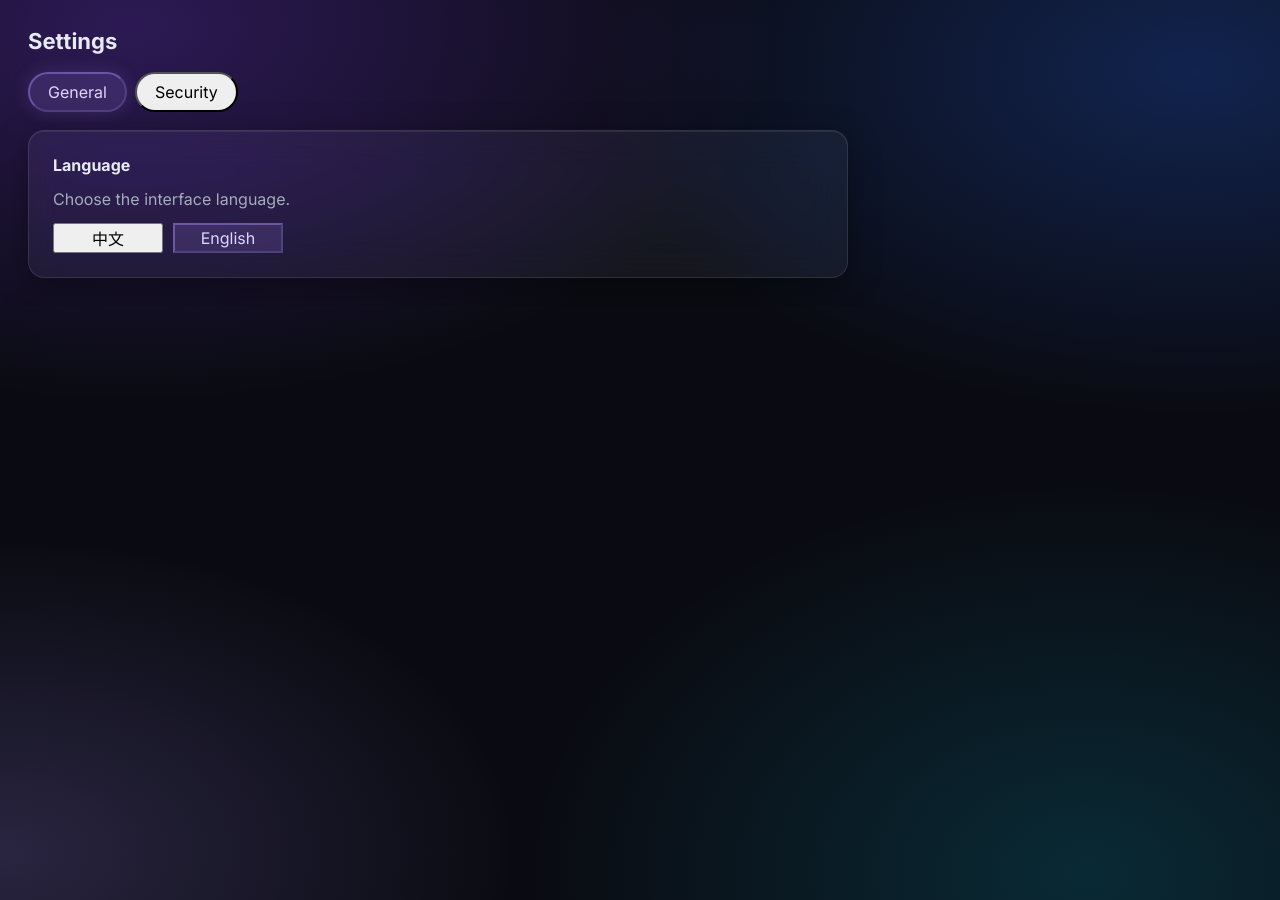
Scenario: SettingsView › 点击中文立即切换界面语言并持久化
Click the button "中文": point(108, 238) 53,223 -> 163,253
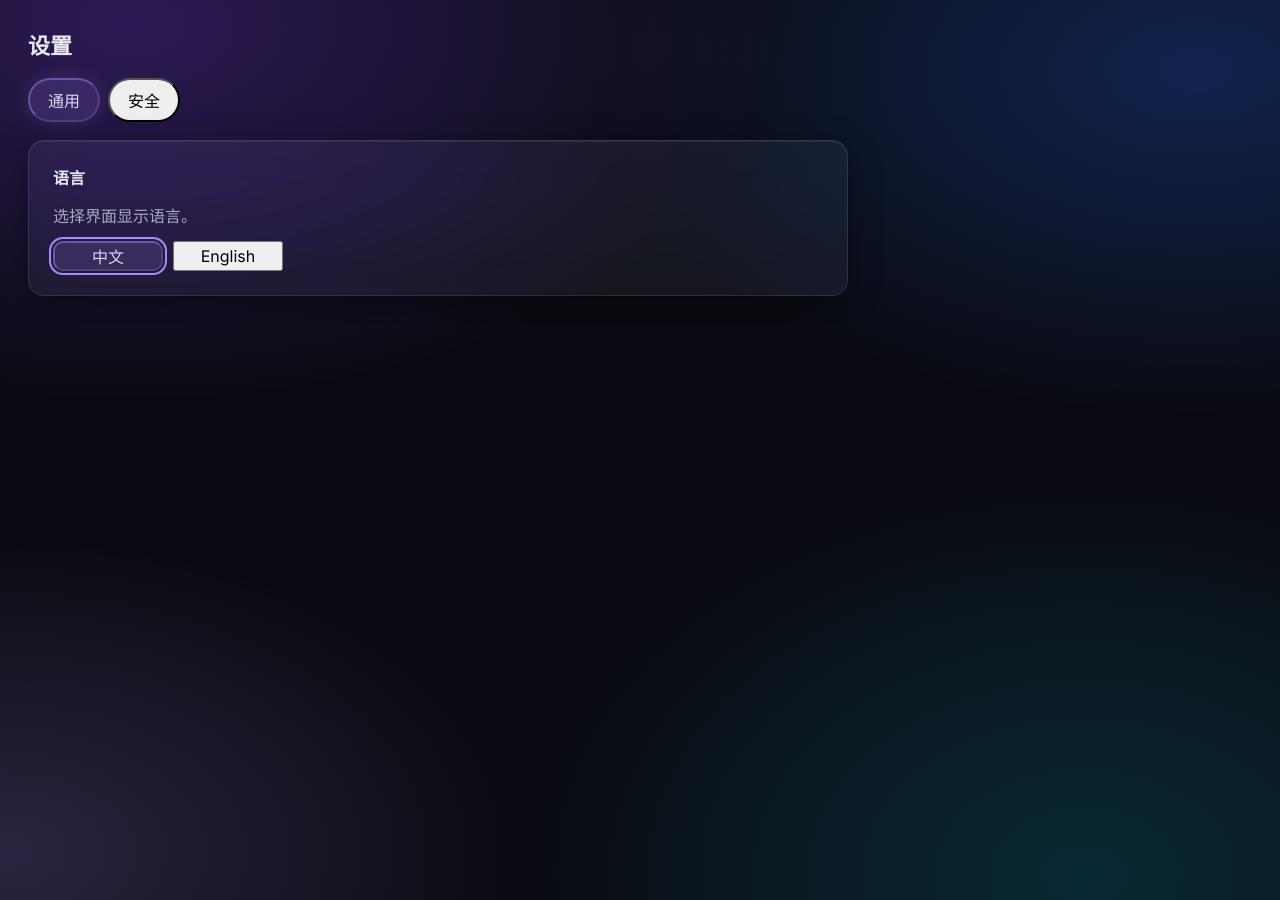
Check: the heading "设置" is shown, box 28,33 -> 72,59
Check: the tab "通用" is shown, box 28,78 -> 100,122
Check: the tab "安全" is shown, box 108,78 -> 180,122
